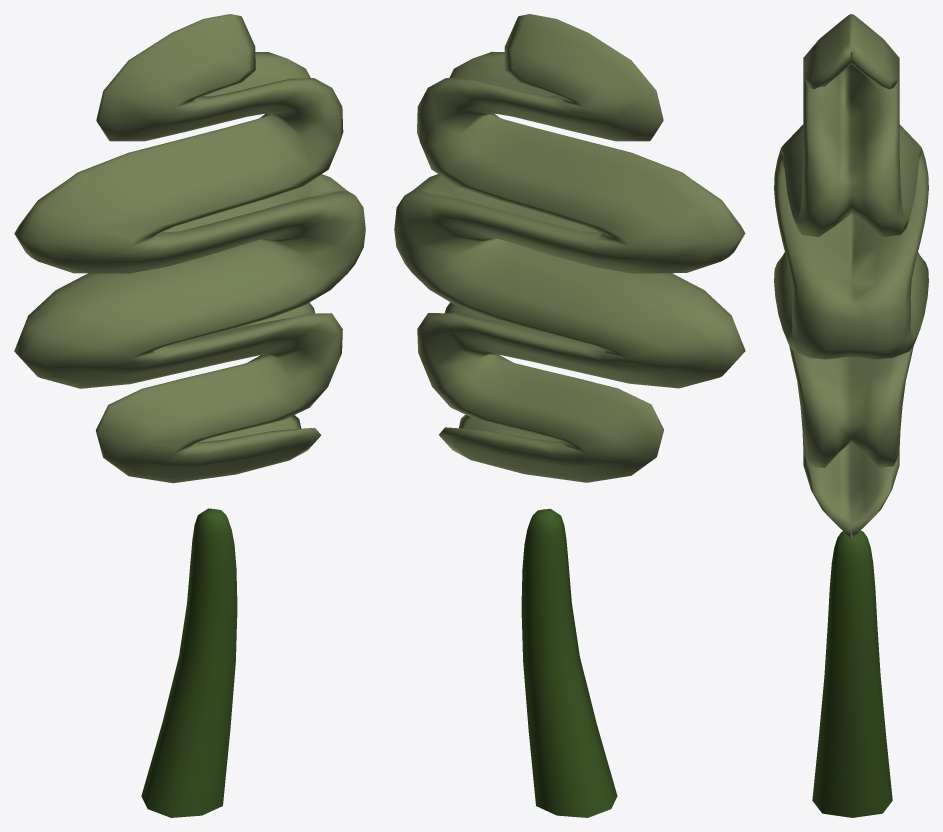
Rendered from decor-treefloat.glb.
3 renders of one model, left to right at view 1: azimuth 30°, elevation 25°; view 2: azimuth 150°, elevation 25°; view 3: azimuth 270°, elevation 25°, orthographic.
Parts seen in each view (by area): view 1: Tree_Floating_1; view 2: Tree_Floating_1; view 3: Tree_Floating_1.
Boxes of the visible parts, x1,y1,x2,y2 form: Tree_Floating_1: (14, 14, 365, 817); Tree_Floating_1: (394, 14, 745, 817); Tree_Floating_1: (774, 14, 928, 817).
Bounding box in the file's own units: 2.04 × 4.5 × 0.8059.
Materials: 1 (1 with a texture image).
